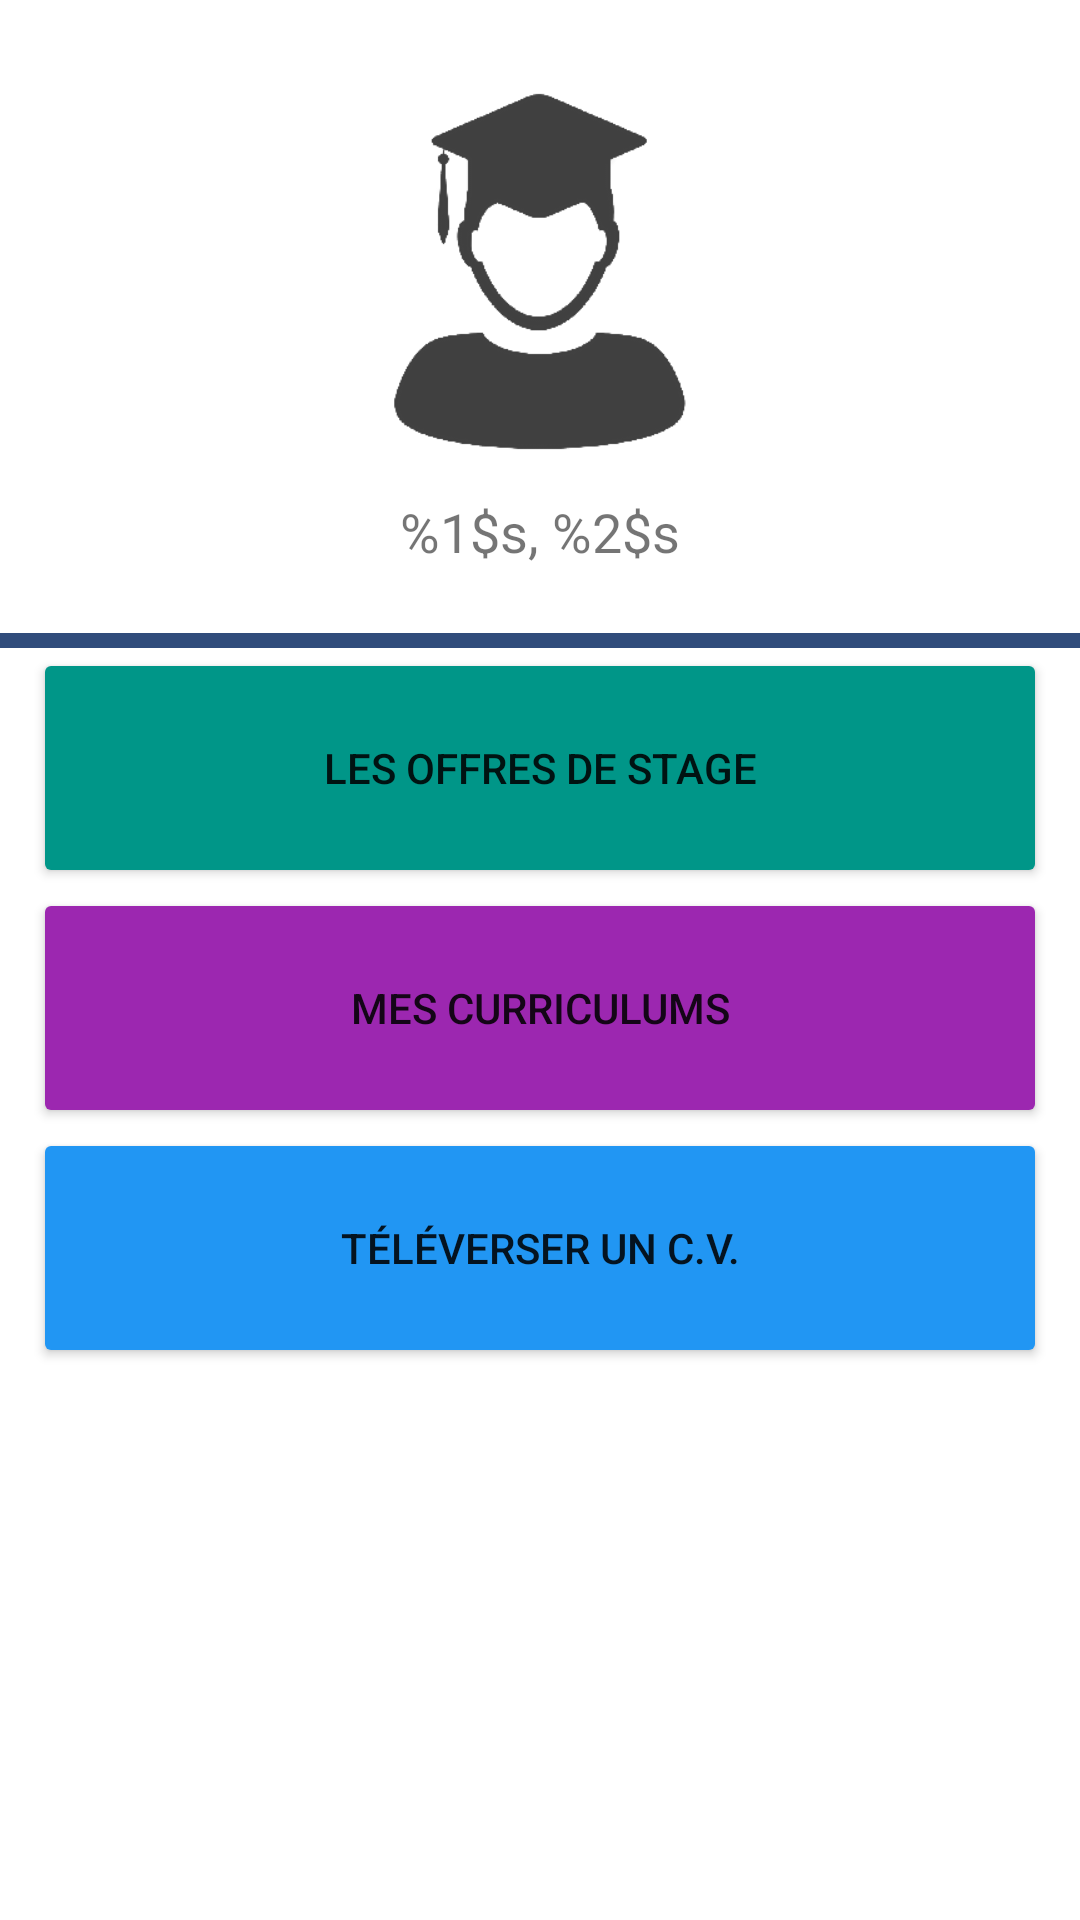

Named icons in this screenshot (1080x1920) and their bounding boxes, (x1, y1, x2, y2):
student: (394, 94, 686, 449)
